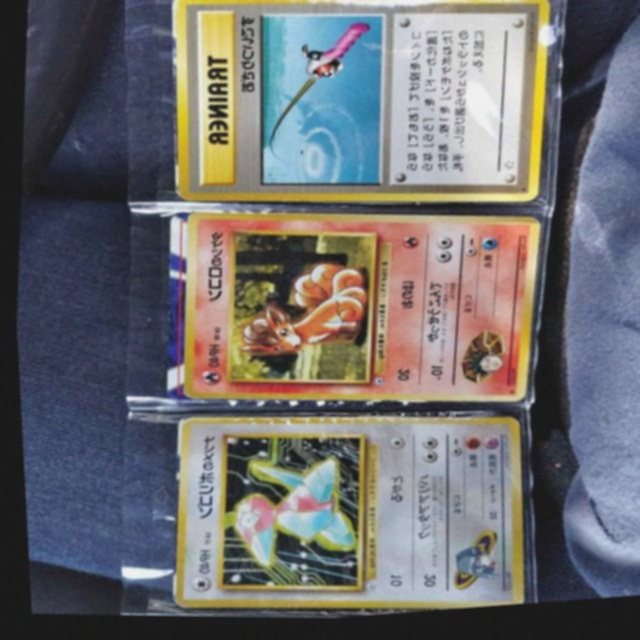card: (172, 0, 549, 212), (175, 212, 537, 411), (166, 419, 516, 616)
